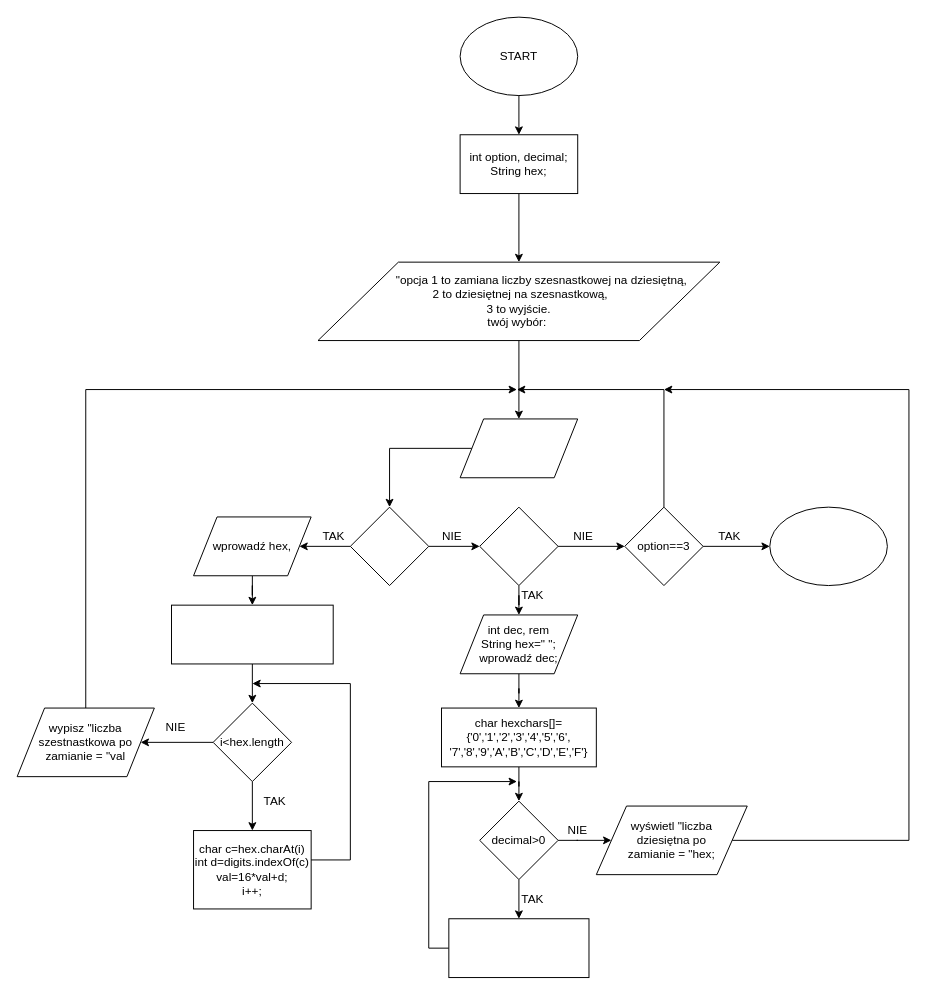
Image size: 934x995. Some labels were removed from this diagram. Each missing label, with the box of its shape:
option==1: (349, 506, 429, 586)
option==2: (479, 506, 558, 586)
rem=dec%16; hex=.hexchars[rem]+hex; dec=dec/16: (448, 918, 589, 978)
STOP: (769, 506, 887, 586)
String digits="123456789ABCDEF" hex=hex.toUpperCase() int i=0, val=0;: (171, 604, 333, 664)
wprowadź option: (459, 418, 578, 478)
